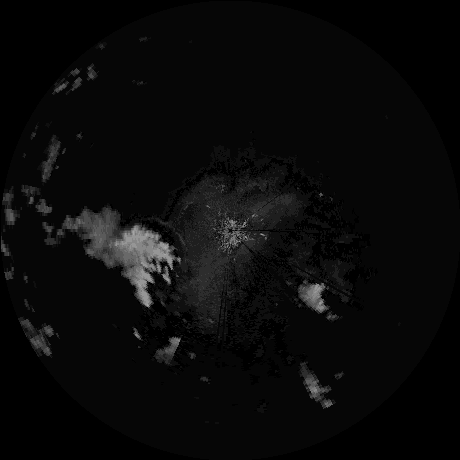frontgust: (142, 217, 187, 250)
